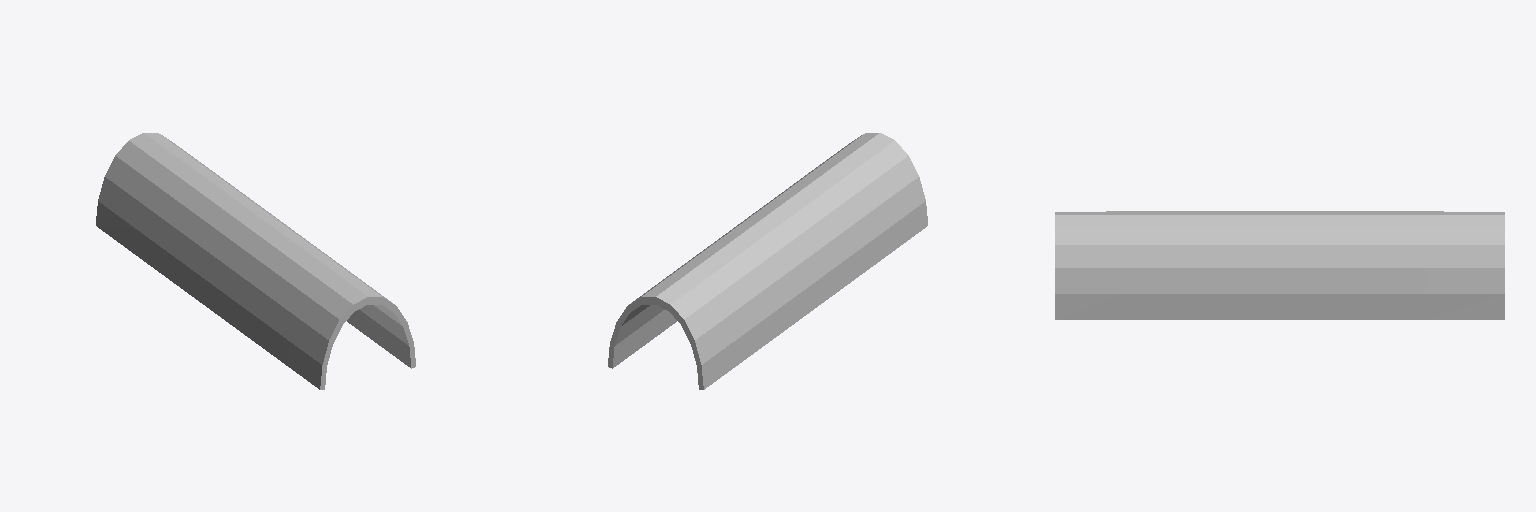
Rendered from Tunnel.obj.
The picture shows the model from 3 angles: view 1: azimuth 30°, elevation 25°; view 2: azimuth 150°, elevation 25°; view 3: azimuth 270°, elevation 25°; orthographic projection.
Parts seen in each view (by area): view 1: Tunnel; view 2: Tunnel; view 3: Tunnel.
Part boxes in pixels (bbox=[...]): Tunnel: bbox=[96, 133, 415, 389]; Tunnel: bbox=[608, 133, 927, 389]; Tunnel: bbox=[1055, 211, 1504, 319].
Bounding box in the file's own units: 119 × 97.85 × 482.